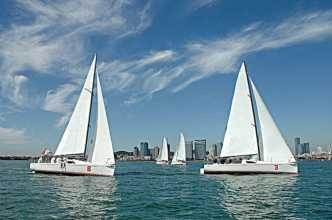fanchuan: (198, 57, 309, 175), (23, 53, 125, 176), (172, 128, 192, 165), (153, 137, 169, 168)
